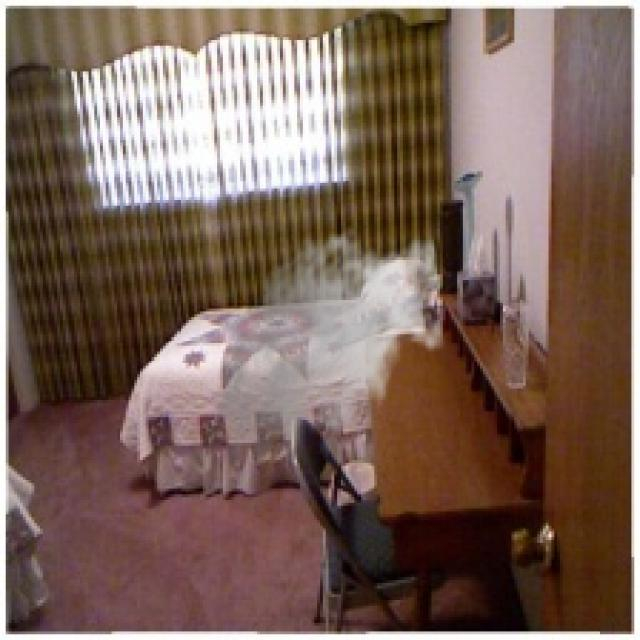smoke: (211, 223, 446, 474)
